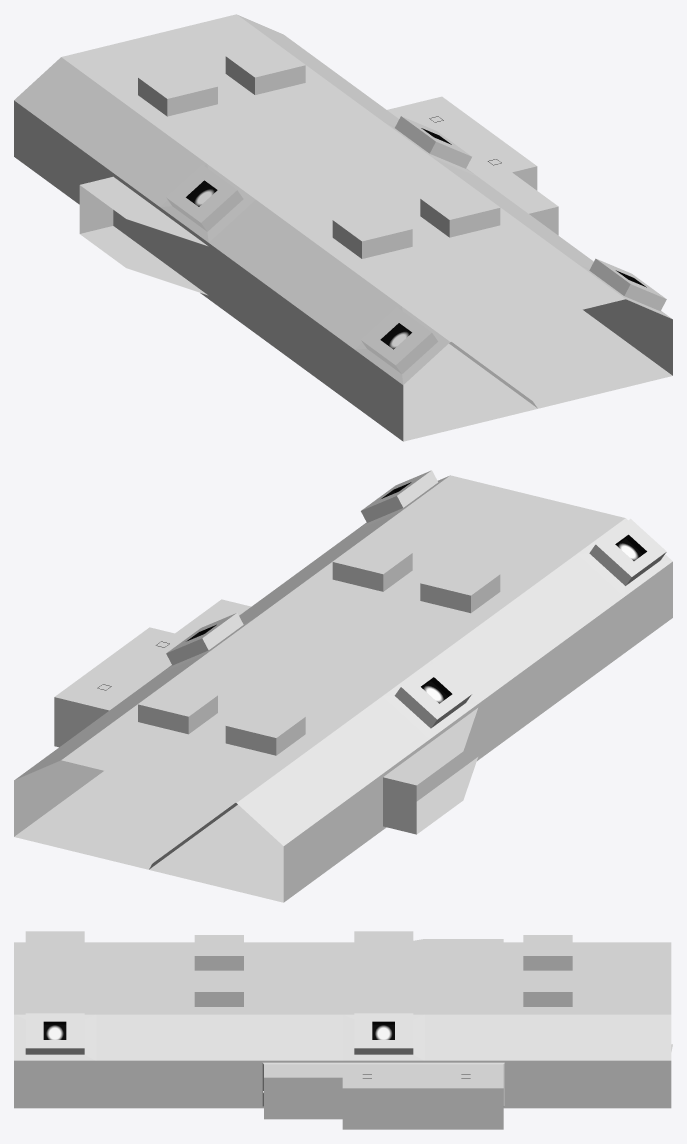
File: TunnelSection2.fbx
3 views of the same model, one above another, from view 1: azimuth 30°, elevation 25°; view 2: azimuth 150°, elevation 25°; view 3: azimuth 270°, elevation 25° (orthographic). The views are drawn at different scales.
Parts seen in each view (by area): view 1: Tunnel2; view 2: Tunnel2; view 3: Tunnel2.
Part boxes in pixels (box(x1,y1,x2,y2)): Tunnel2: box(14, 14, 672, 441); Tunnel2: box(14, 470, 672, 902); Tunnel2: box(14, 931, 672, 1129).
Bounding box in the file's own units: 2150 × 600 × 4010.
Materials: 8 (2 with a texture image).
